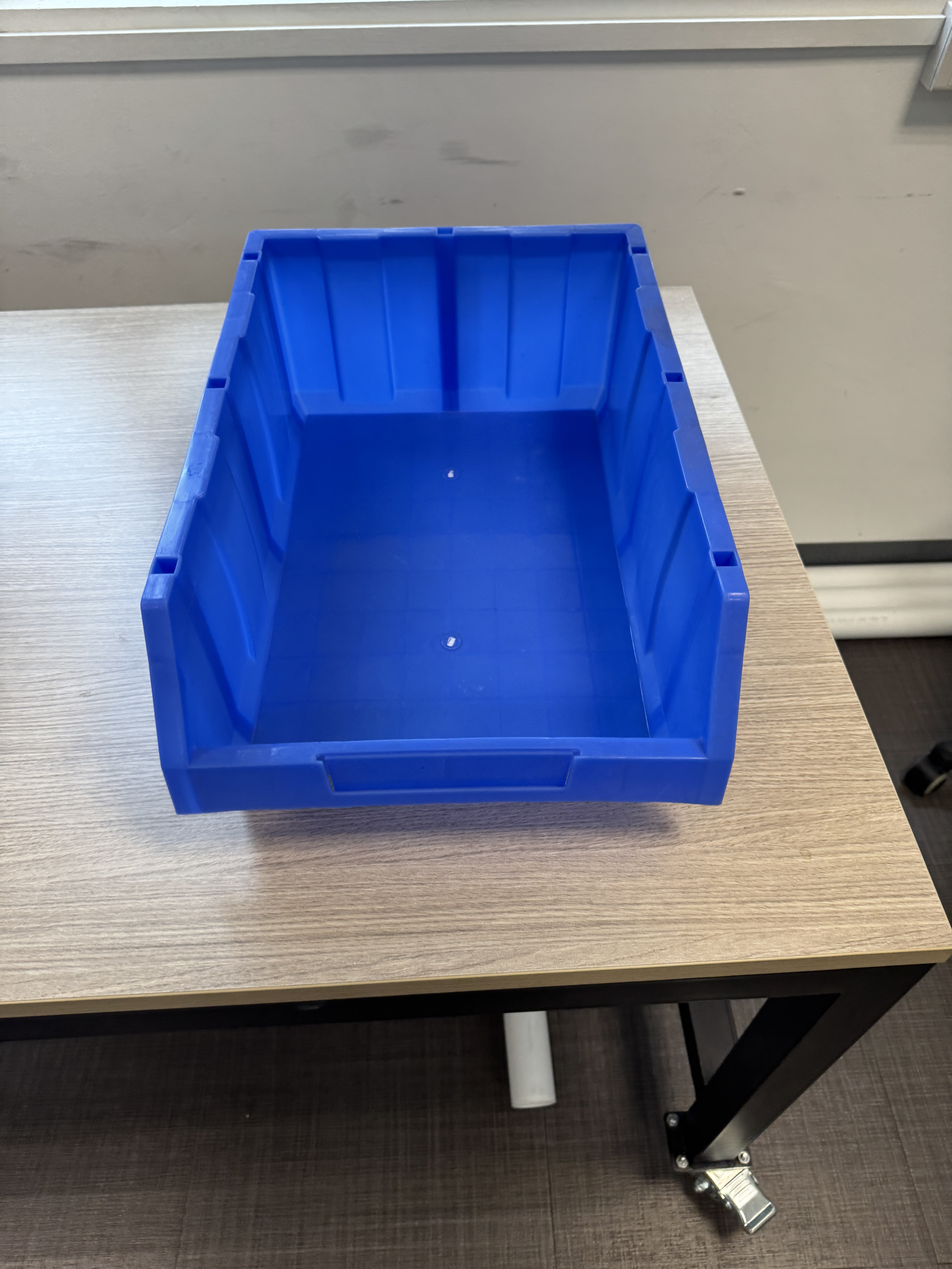Bin Boundary: (156, 231, 728, 762)
